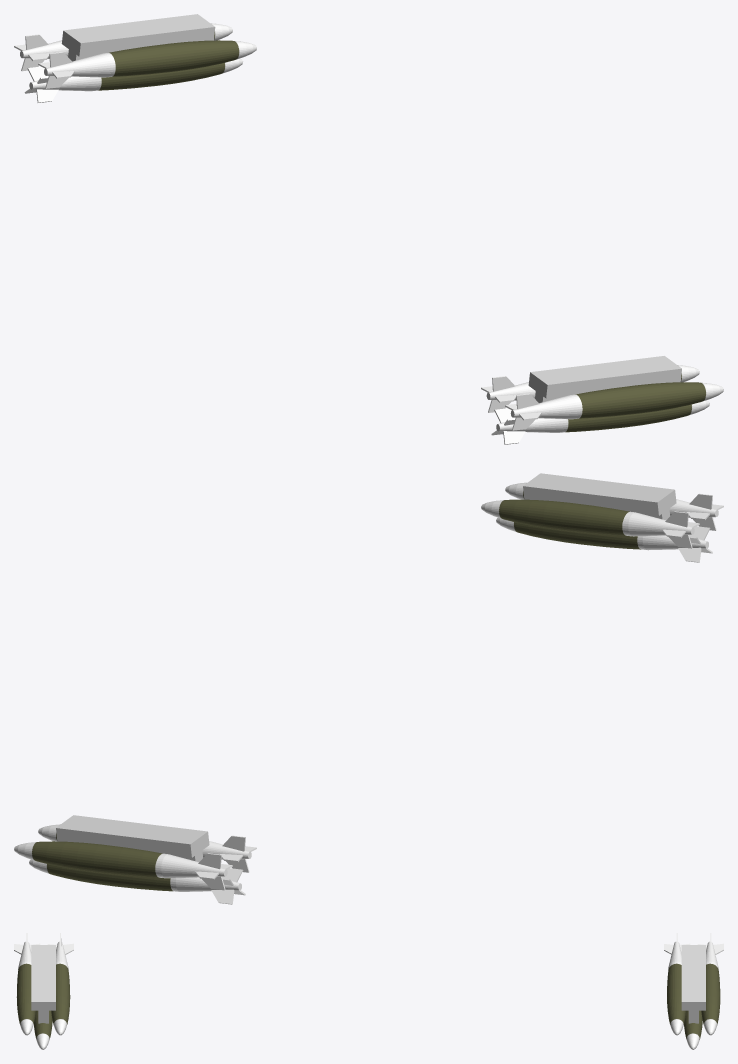
Rendered from a10cgbu3829.glb.
3 views of the same model, one above another, from view 1: azimuth 30°, elevation 25°; view 2: azimuth 150°, elevation 25°; view 3: azimuth 270°, elevation 25° (orthographic). The views are drawn at different scales.
Parts seen in each view (by area): view 1: 円柱.023, 円柱.035, 立方体.007, 立方体.010, 円柱.033, 円柱.021, 円柱.022, 円柱.034; view 2: 円柱.022, 円柱.034, 立方体.010, 立方体.007, 円柱.021, 円柱.033, 円柱.023, 円柱.035; view 3: 立方体.007, 立方体.010, 円柱.035, 円柱.023, 円柱.022, 円柱.034, 円柱.021, 円柱.033.
Part boxes in pixels (x1,y1,x2,y2): 円柱.023: [38, 40, 256, 88]; 円柱.035: [505, 382, 723, 430]; 立方体.007: [61, 14, 215, 61]; 立方体.010: [528, 356, 681, 402]; 円柱.033: [491, 400, 709, 444]; 円柱.021: [24, 58, 242, 102]; 円柱.022: [14, 23, 232, 71]; 円柱.034: [481, 365, 699, 412]; 円柱.022: [14, 841, 232, 890]; 円柱.034: [481, 499, 699, 548]; 立方体.010: [523, 473, 676, 520]; 立方体.007: [56, 815, 209, 861]; 円柱.021: [29, 859, 245, 904]; 円柱.033: [496, 517, 712, 562]; 円柱.023: [38, 824, 256, 872]; 円柱.035: [505, 482, 723, 530]; 立方体.007: [681, 945, 705, 1023]; 立方体.010: [31, 945, 55, 1023]; 円柱.035: [14, 933, 40, 1035]; 円柱.023: [664, 933, 690, 1035]; 円柱.022: [697, 933, 723, 1035]; 円柱.034: [47, 933, 73, 1035]; 円柱.021: [684, 1010, 702, 1049]; 円柱.033: [34, 1010, 52, 1049].
Size of the model in its own units: 2.43 by 0.7809 by 10.01.
Materials: 4 (1 with a texture image).
